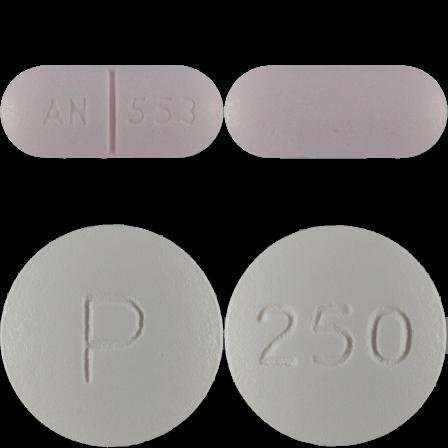68788-9277: (0, 0, 224, 224)
